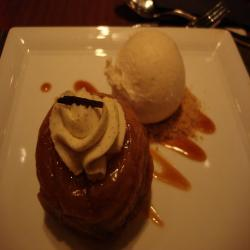apple_pie: (27, 96, 159, 246)
icecream: (100, 22, 194, 132)
